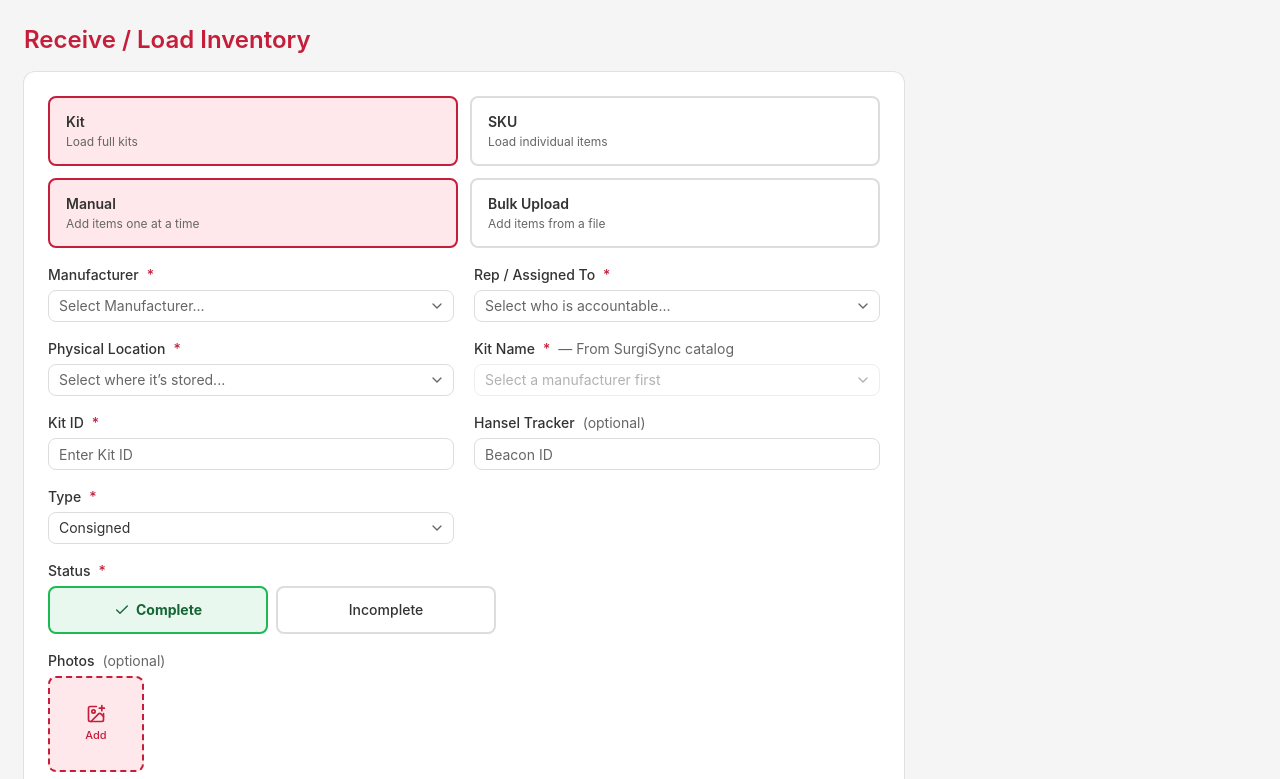
Test: ReceiveScreen › keeps the unbuilt modes selectable
What coordinates should you click on to do the following:
click the radio button labelled "SKU Load individual items"
I would click on:
 (548, 142)
Its box is 470,96 -> 880,166.
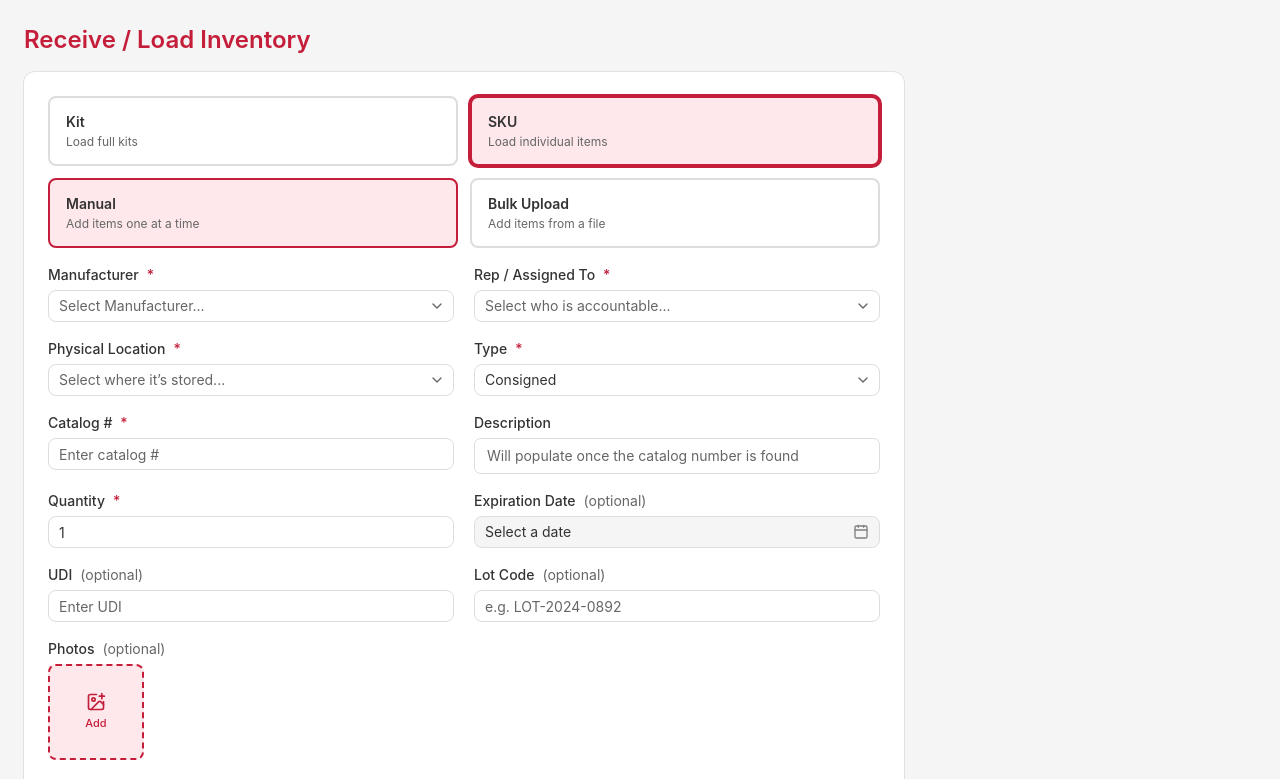
Expected: the radio button labelled "SKU Load individual items" is checked, 470,96 -> 880,166
Expected: the radio button labelled "Kit Load full kits" is not checked, 48,96 -> 458,166
